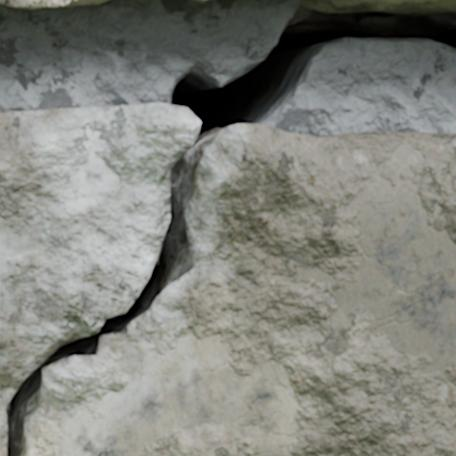brick: (0, 0, 106, 8), (302, 0, 411, 2)
broken_brick: (27, 125, 455, 455), (0, 102, 199, 427)
crack: (0, 0, 455, 455)
